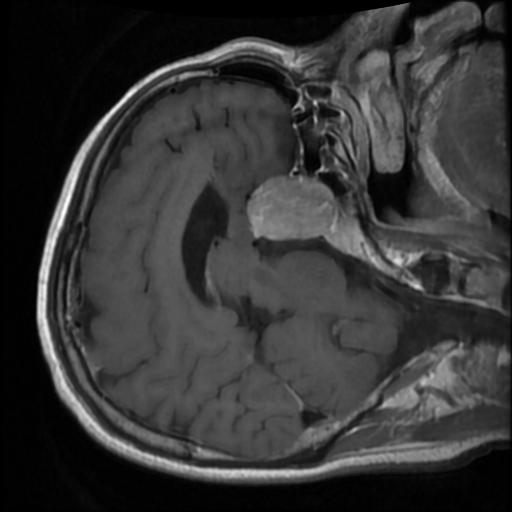pituitary tumour: (245, 174, 339, 239)
